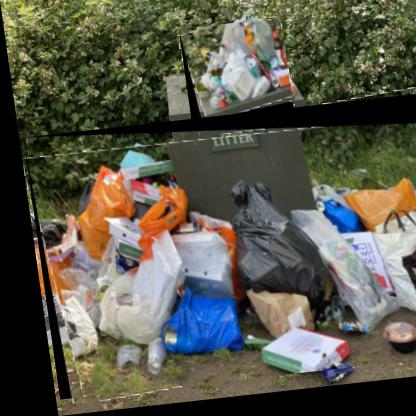Garbage: (20, 103, 416, 402), (178, 25, 292, 127)
